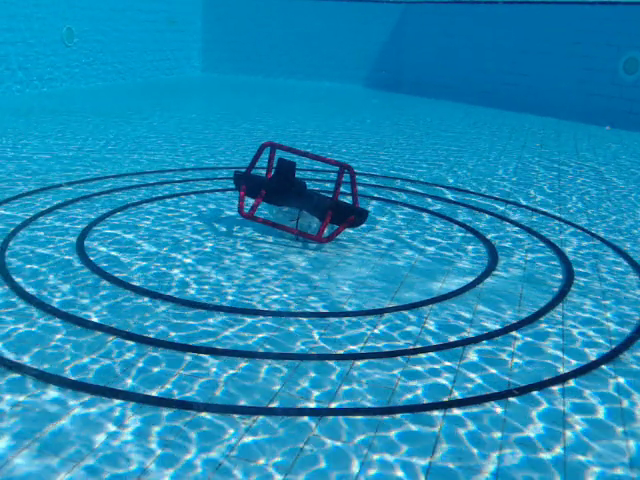submarine: (232, 140, 372, 246)
